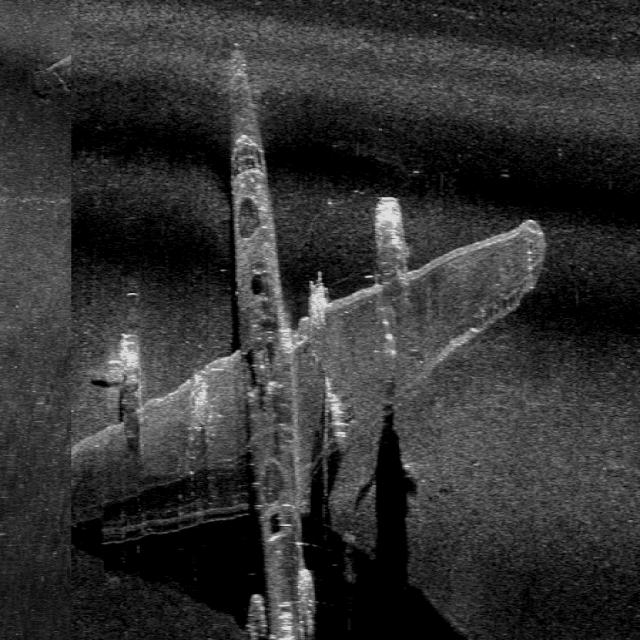plane: (63, 46, 543, 635)
